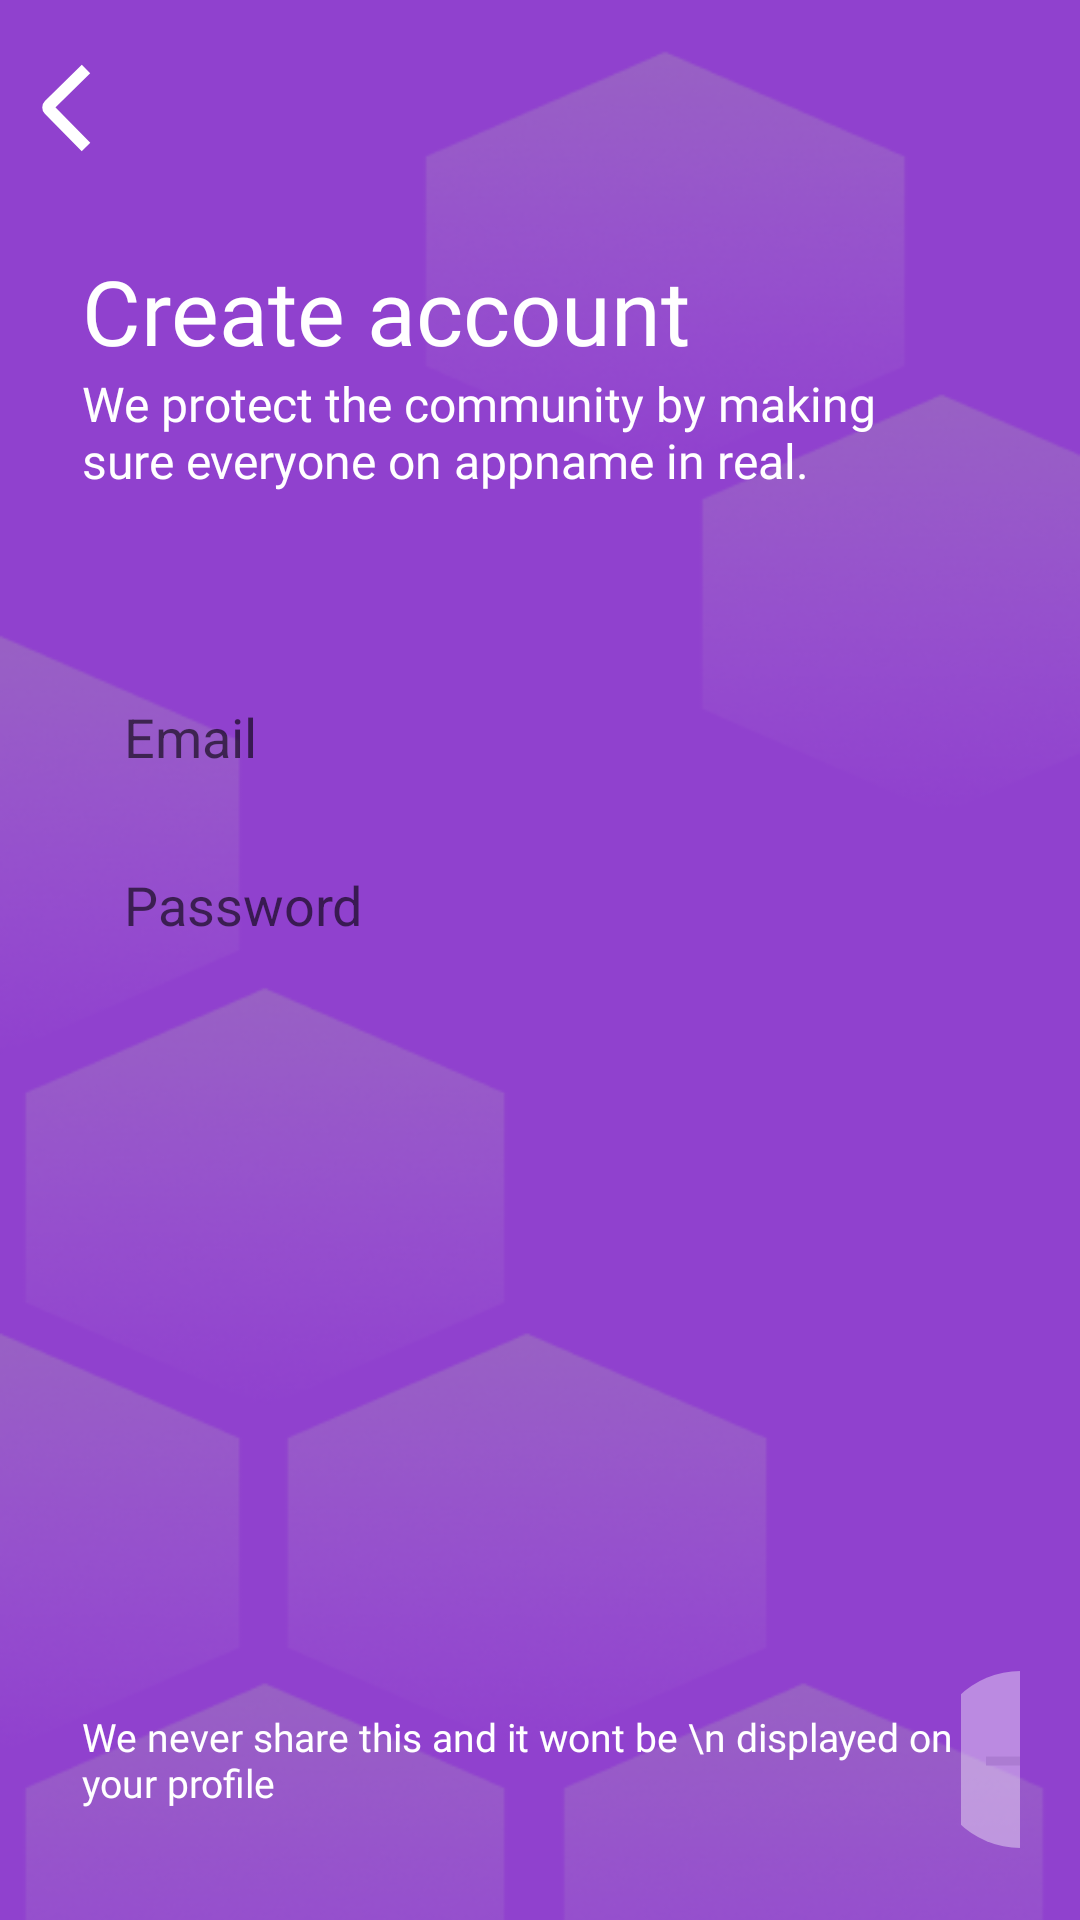

Screen size 1080*1920. Icon name, then its center in pixels as (x,y):
backbtn: (66,108)
